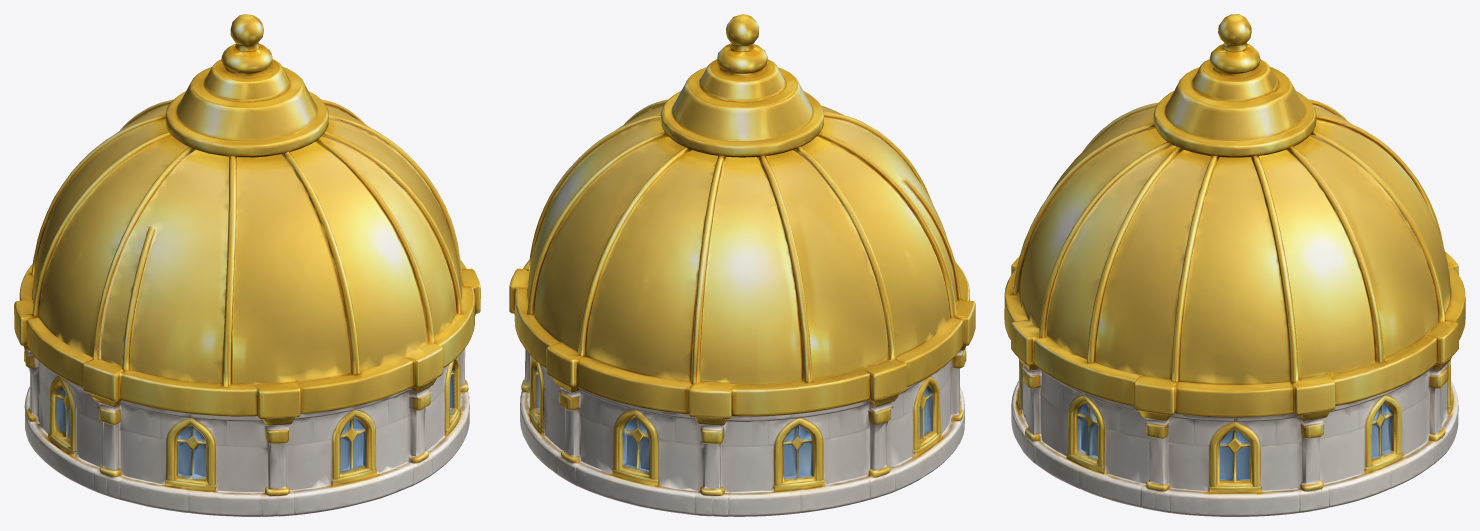
File: HaloPart_CathDome_HD_src.glb
3 renders of one model, left to right at view 1: azimuth 30°, elevation 25°; view 2: azimuth 150°, elevation 25°; view 3: azimuth 270°, elevation 25°, orthographic.
Parts seen in each view (by area): view 1: tripo_node_fa55963e-31a5-4200-b778-d3dc480b94e0; view 2: tripo_node_fa55963e-31a5-4200-b778-d3dc480b94e0; view 3: tripo_node_fa55963e-31a5-4200-b778-d3dc480b94e0.
Part boxes in pixels (x1,y1,x2,y2): tripo_node_fa55963e-31a5-4200-b778-d3dc480b94e0: [14, 14, 480, 516]; tripo_node_fa55963e-31a5-4200-b778-d3dc480b94e0: [509, 14, 975, 516]; tripo_node_fa55963e-31a5-4200-b778-d3dc480b94e0: [1004, 14, 1465, 516].
Bounding box in the file's own units: 0.979 × 0.9569 × 0.9801.
1 material, 1 textured.
